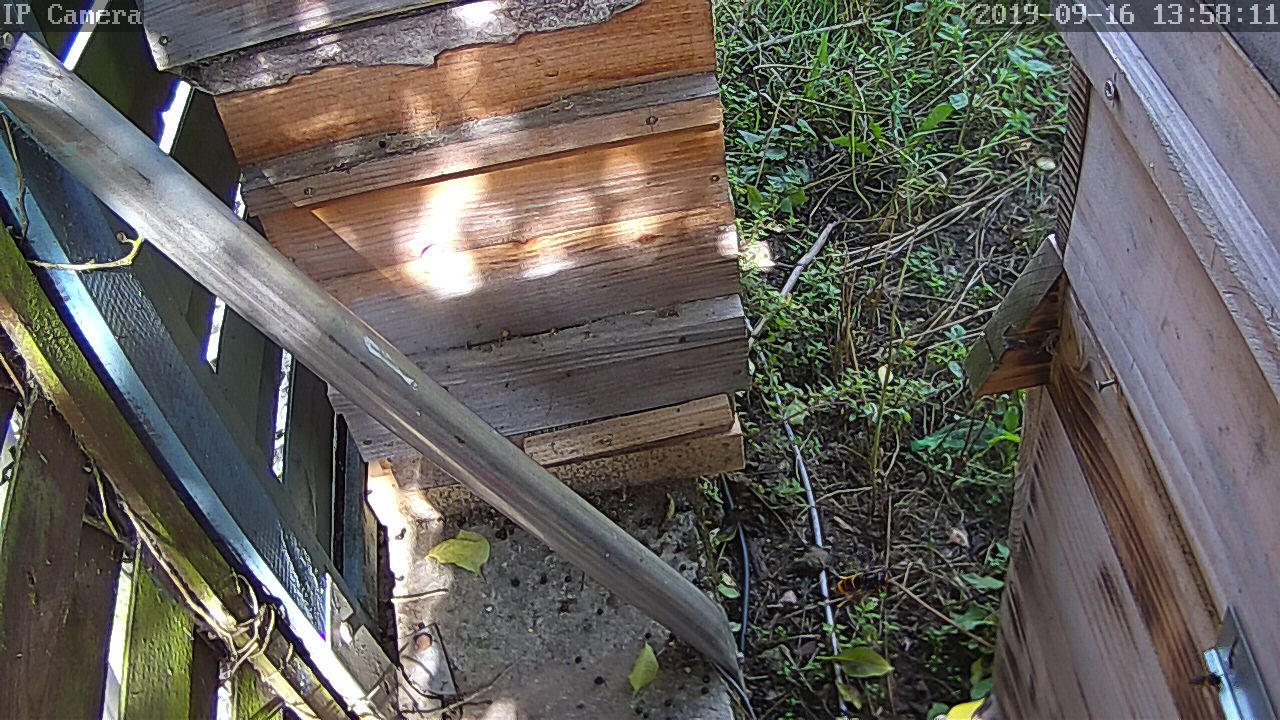bee: (1184, 667, 1230, 695)
hornet: (833, 568, 890, 600)
